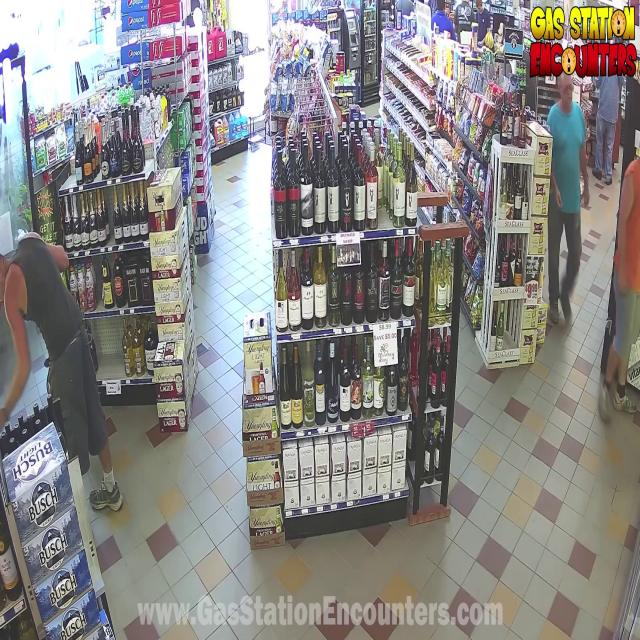normal: (0, 135, 132, 532), (532, 50, 592, 322), (598, 142, 640, 487)
